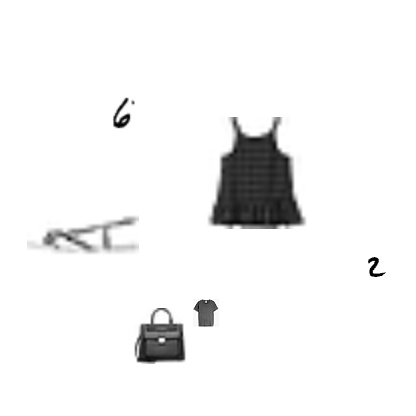2: (360, 253, 388, 281)
6: (100, 95, 142, 137)
Bag: (131, 308, 187, 364)
Sandal: (27, 177, 139, 289)
T-shirt/top: (201, 117, 313, 229), (192, 299, 220, 327)
